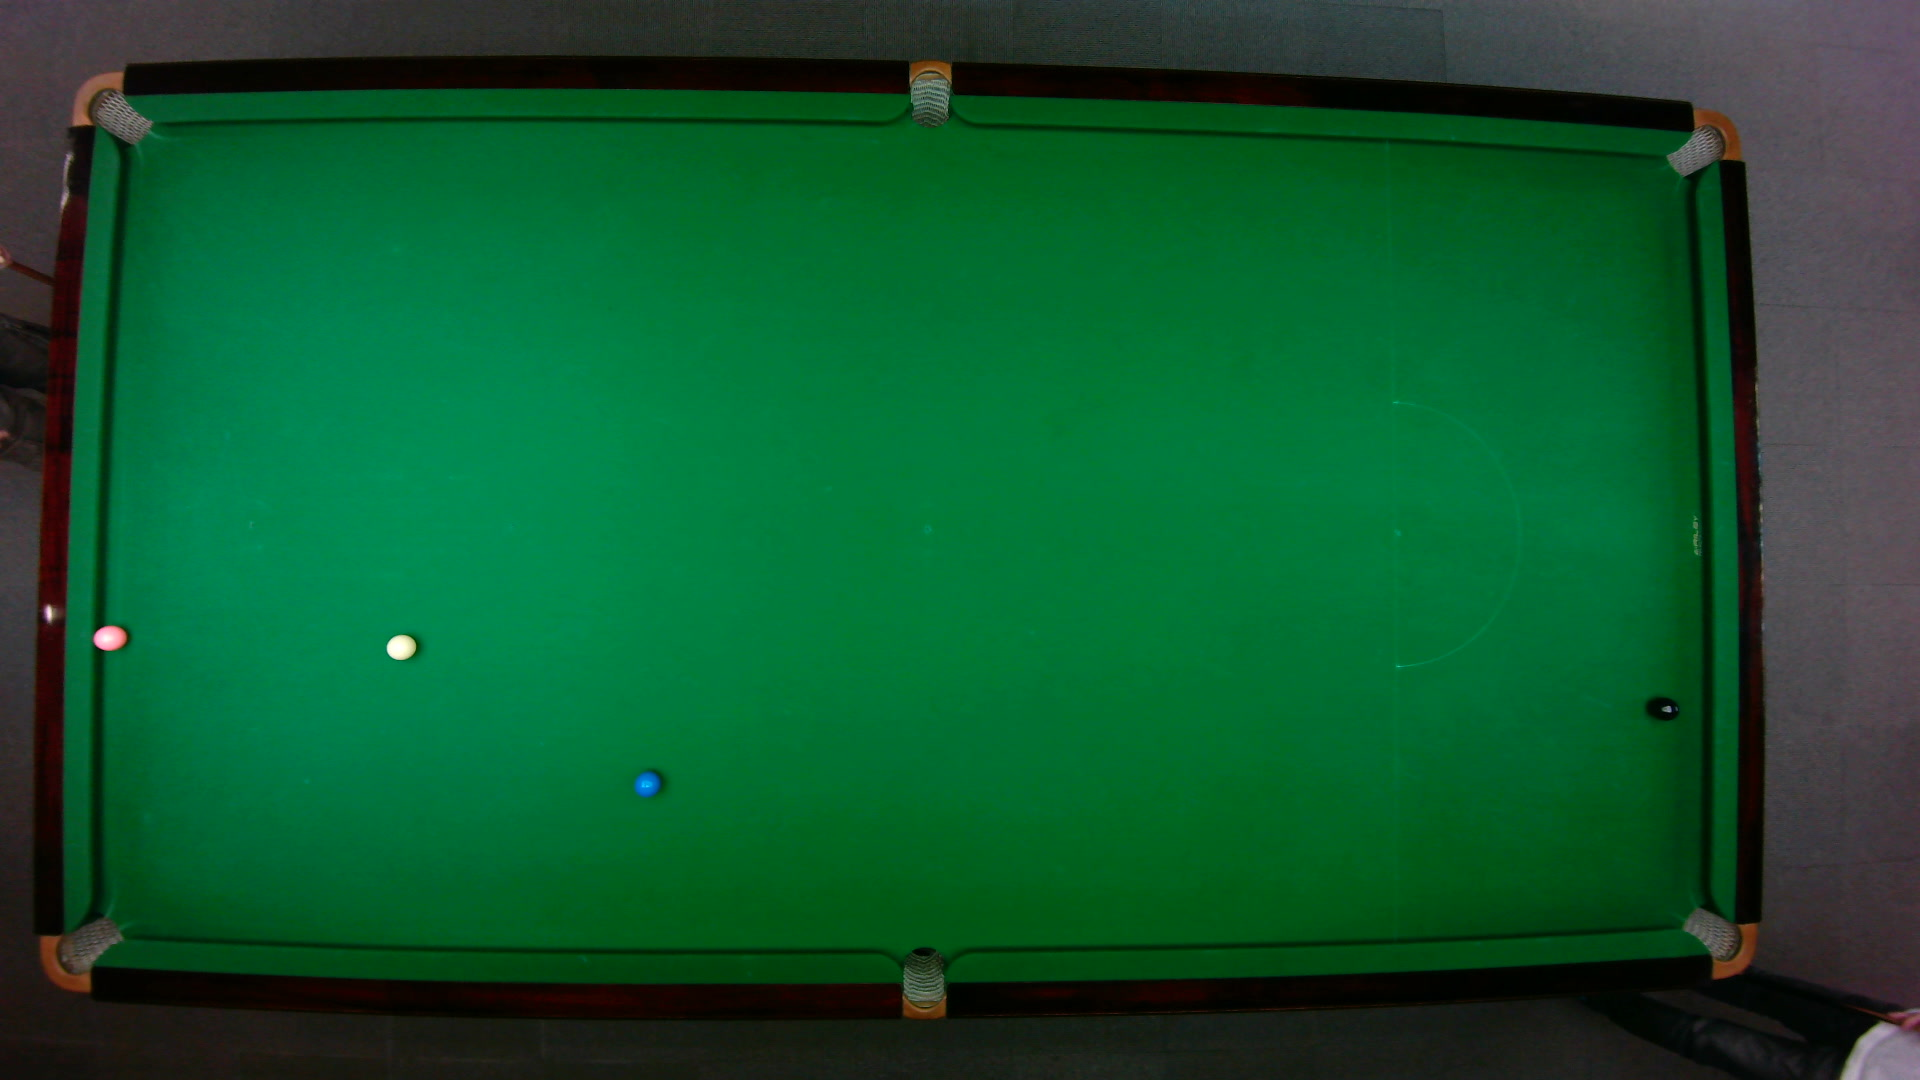bag: (37, 913, 125, 992), (69, 69, 153, 145), (1677, 905, 1756, 978), (1663, 107, 1741, 177), (901, 944, 944, 1021), (909, 58, 949, 128)
black: (1650, 695, 1680, 720)
blue: (632, 769, 661, 796)
pink: (90, 622, 128, 651)
white: (384, 632, 418, 661)
zone: (1390, 400, 1520, 667)
